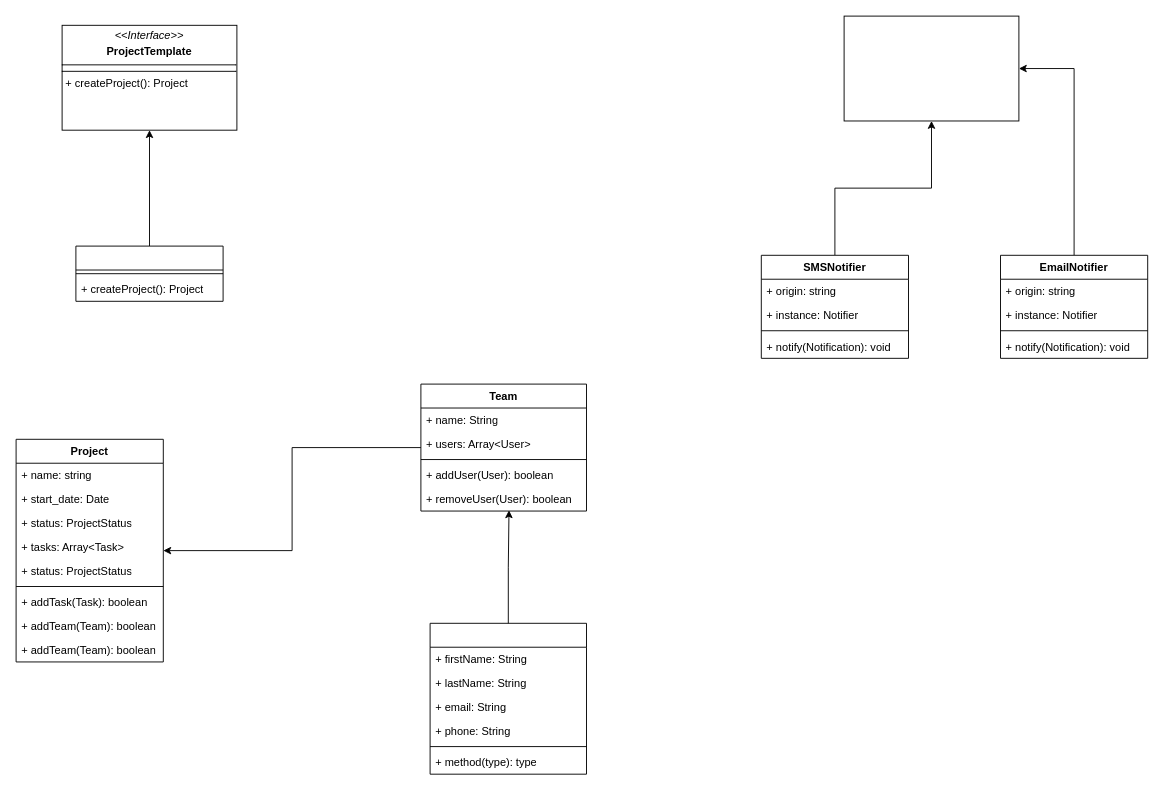
This 1164x793 diagram has some shape labels left out. The shapes that lost their labels are listed below. From the top down, each one's box as (x1, y1, x2, y2) in pixels, then its label:
(843, 15, 1019, 121): <<Interface>> Notifier + notify(Notification ): void
(75, 245, 223, 301): DefaultProjectTemplate
(429, 622, 586, 774): User
